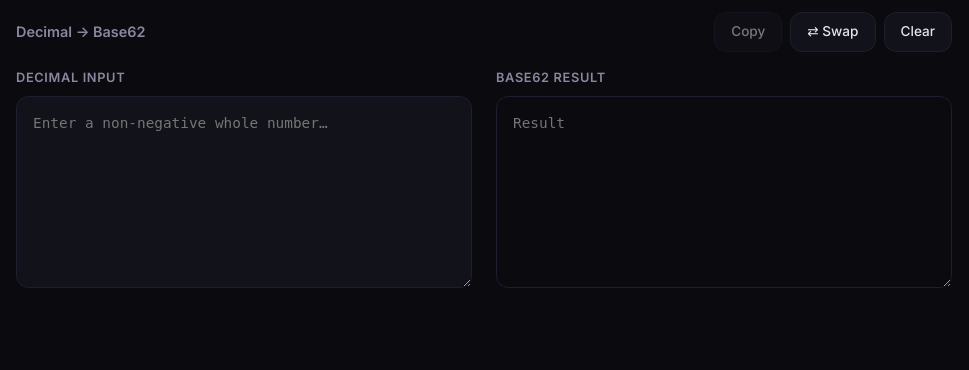
Test: Base62Tool actions › clears values and validation feedback
Type "1.5" into the text box labelled "Decimal input" at (244, 192), box [16,96,472,288]
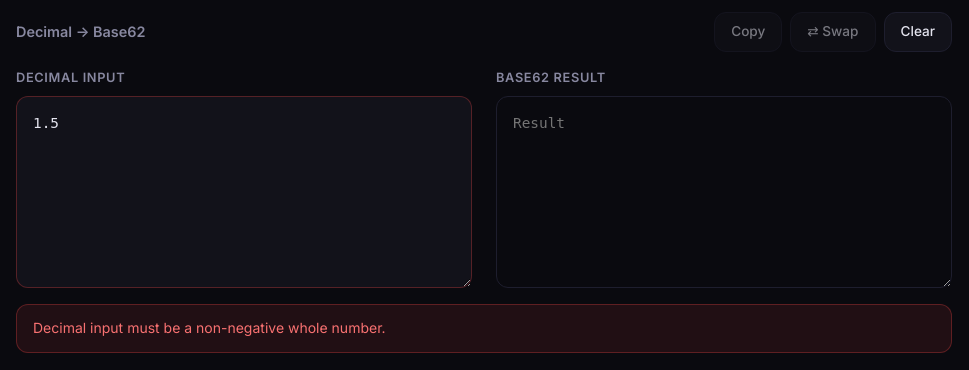
Now the message "Decimal input must be a non-negative whole number." is shown, box [16,304,952,353]
Click the button "Clear" at (918, 32), box [884,12,952,52]
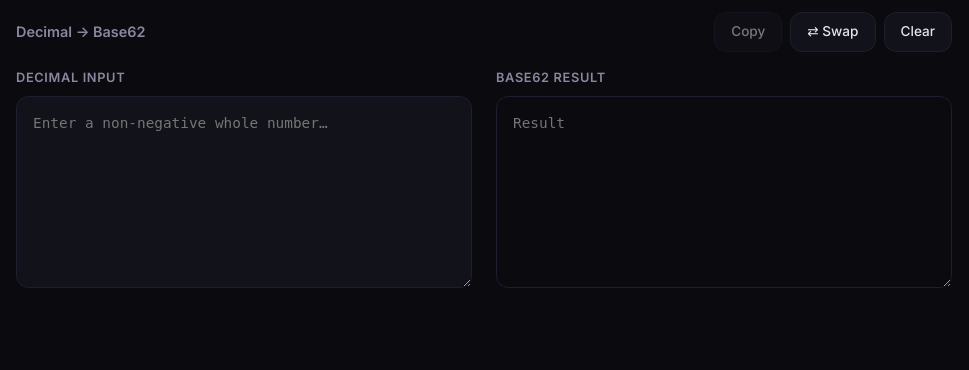
Expected: the text box labelled "Base62 result" is empty, [496,96,952,288]
Now the text box labelled "Decimal input" is empty, box [16,96,472,288]
Now the message "Decimal input must be a non-negative whole number." is gone
